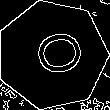O_W: (22, 28, 82, 82)
